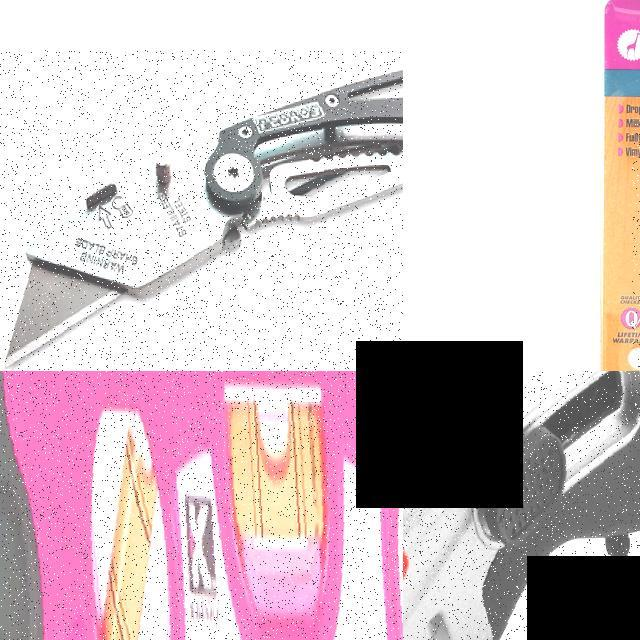estilete: (5, 72, 402, 367)
